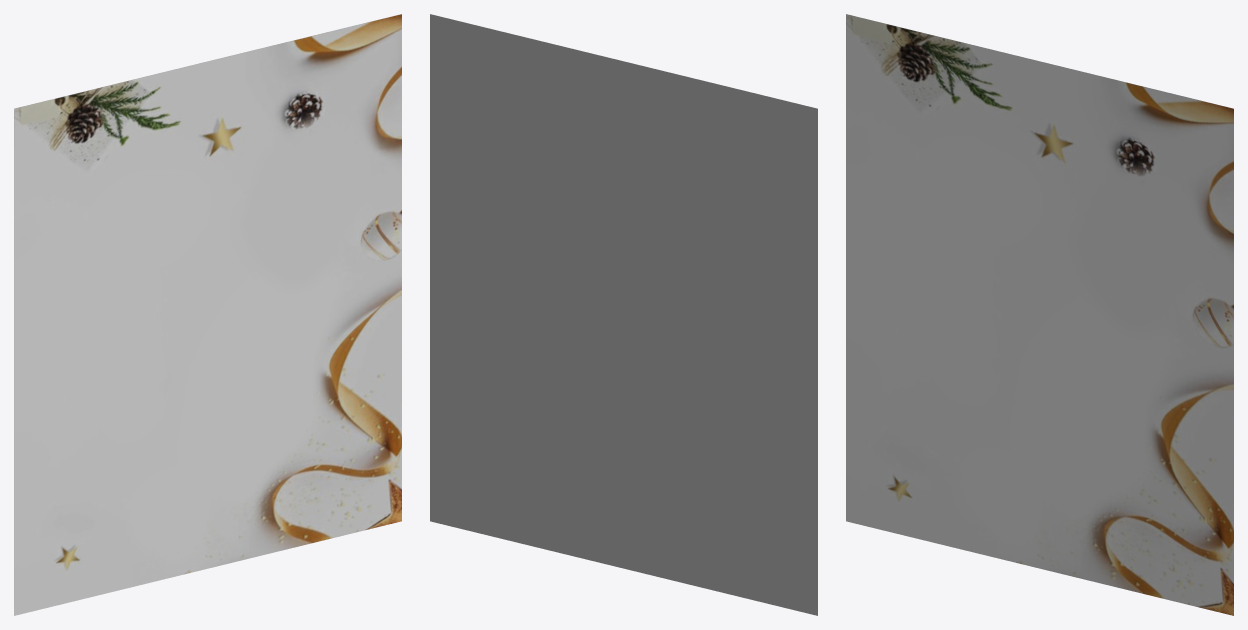
Rendered from HojaDerecha.glb.
The picture shows the model from 3 angles, left to right: view 1: azimuth 30°, elevation 25°; view 2: azimuth 150°, elevation 25°; view 3: azimuth 330°, elevation 25°; orthographic projection.
Parts seen in each view (by area): view 1: Derecha2; view 2: Derecha2; view 3: Derecha2.
Boxes of the visible parts, left/top/right/bottom form: Derecha2: left=14, top=14, right=401, bottom=615; Derecha2: left=430, top=14, right=817, bottom=615; Derecha2: left=846, top=14, right=1233, bottom=615.
Size of the model in its own units: 0.5456 by 0.6819 by 0.000221.
Materials: 1 (1 with a texture image).
